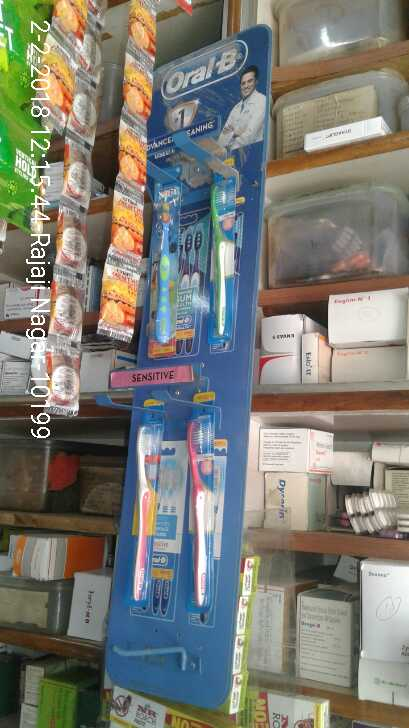oralb: (141, 179, 190, 370), (118, 406, 162, 607), (185, 418, 229, 613), (205, 170, 237, 346)
